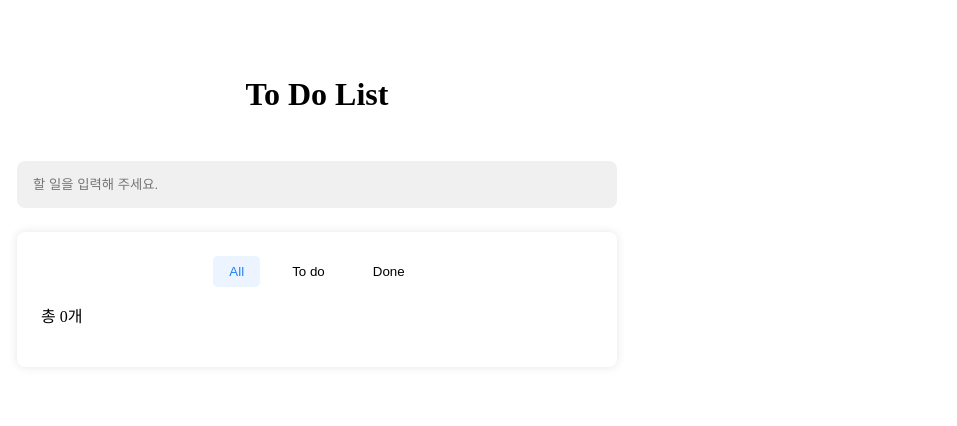
Test: TodoListPage › should delete a task
This screenshot has width=957, height=426.
Type "Task to be deleted" into the field named "task input" at [317, 185], box [17, 161, 617, 208]
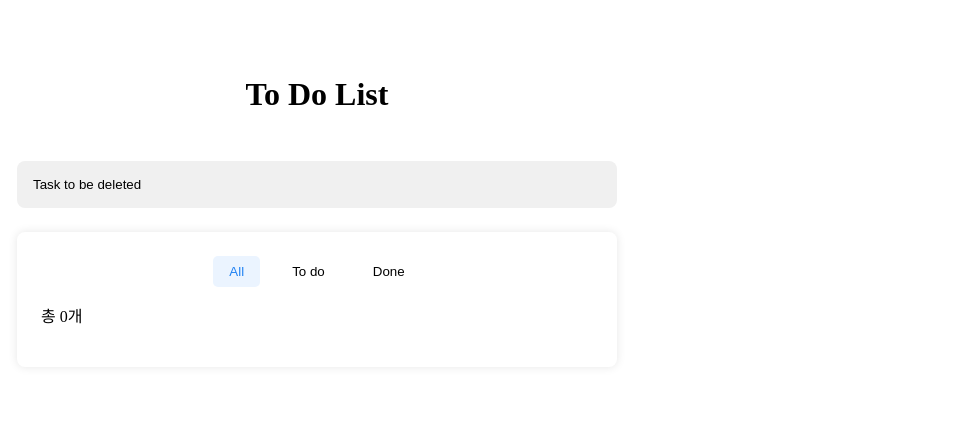
Press Enter in the field named "task input", box [17, 161, 617, 208]
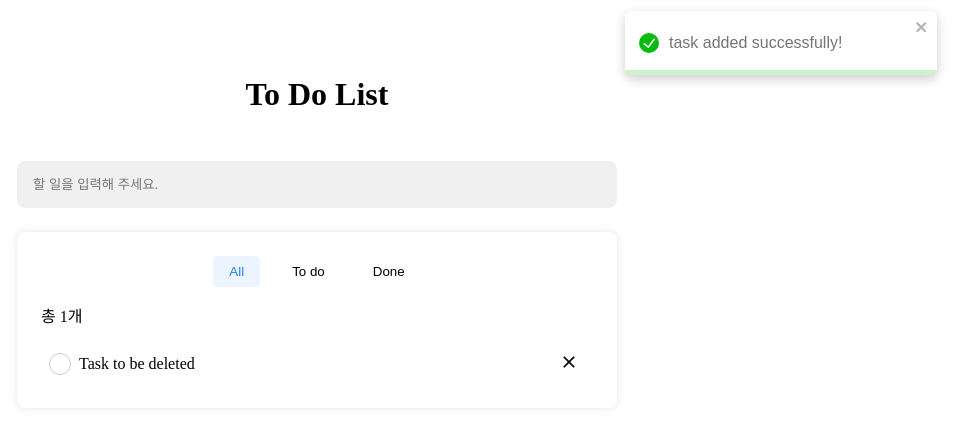
Click the button with alt text "delete" at [569, 364], box [553, 351, 585, 376]
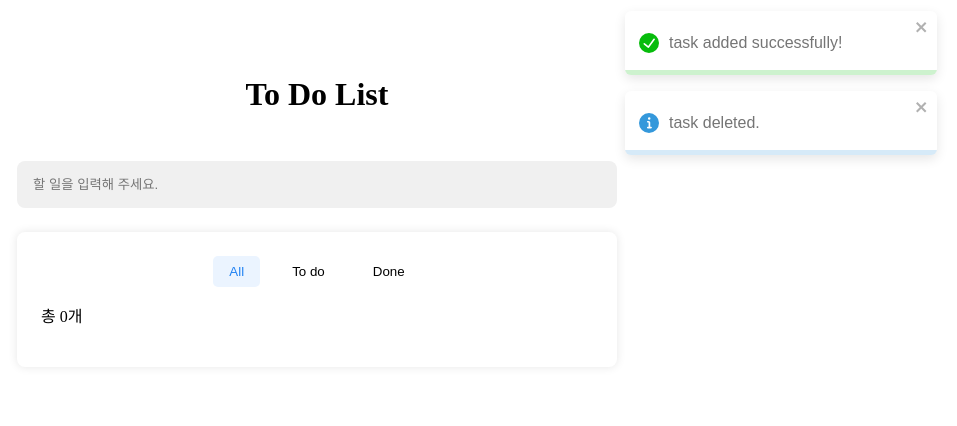
Expected: the text "Task to be deleted" is gone
